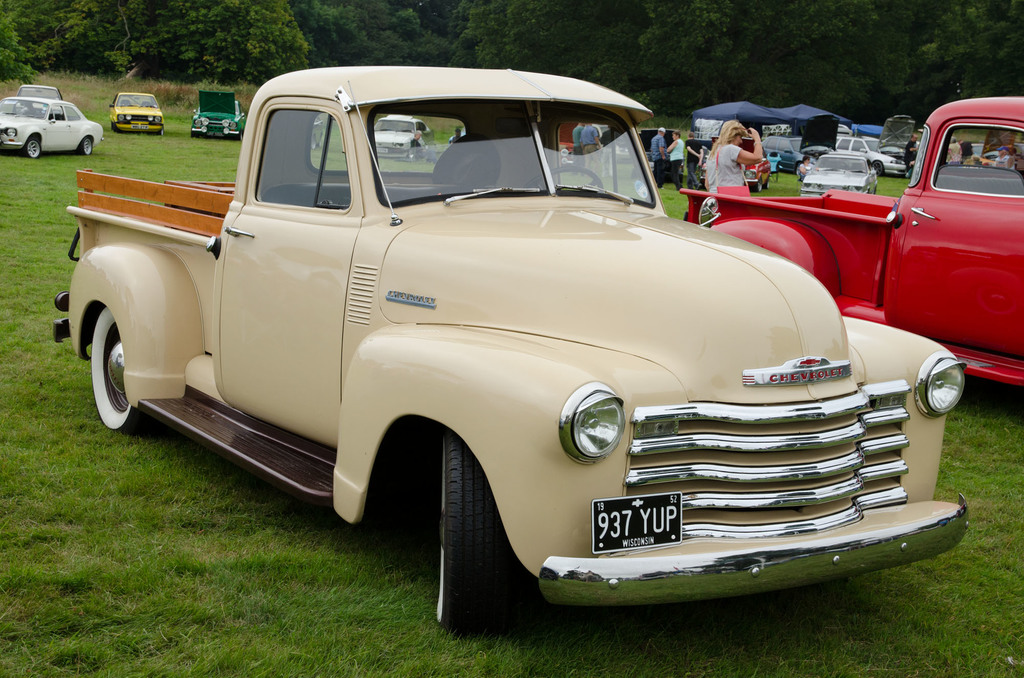Car: (103, 79, 970, 630), (0, 88, 104, 161), (794, 146, 883, 198), (105, 84, 161, 139), (187, 86, 246, 138), (372, 110, 435, 155), (840, 133, 906, 170), (14, 75, 61, 99)
